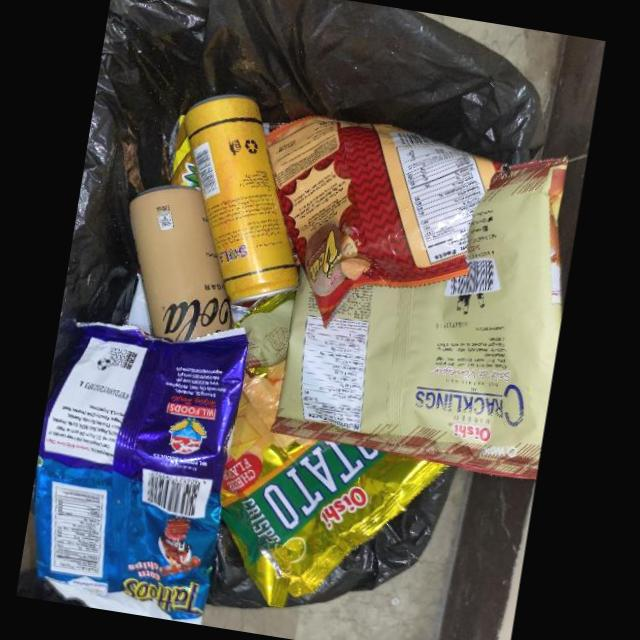bao_bi_thuc_pham: (240, 158, 563, 479), (35, 322, 249, 625), (220, 359, 448, 608), (263, 113, 496, 328)
nhom: (184, 94, 299, 302), (128, 184, 235, 343)
